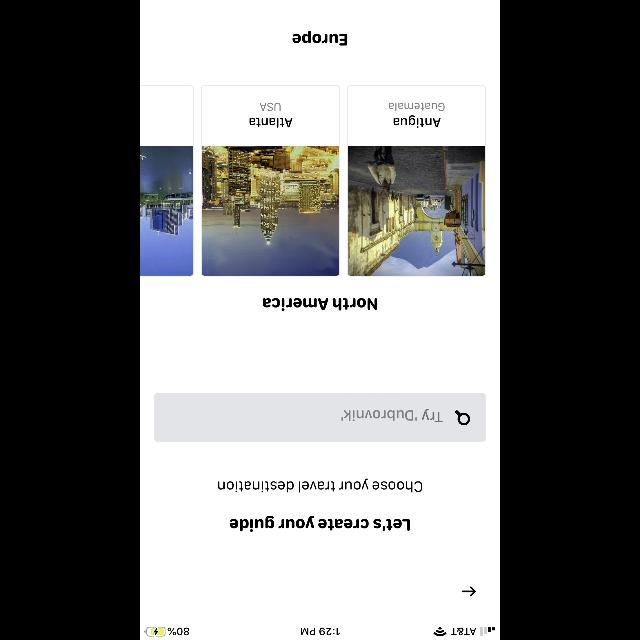icon: (454, 410, 470, 426), (462, 586, 476, 596)
image: (202, 147, 338, 276), (348, 147, 484, 276), (140, 147, 193, 276)
input: (154, 393, 486, 441)
text: (230, 516, 410, 532), (218, 478, 422, 492), (263, 298, 377, 310), (342, 410, 442, 422), (292, 31, 348, 45), (394, 115, 441, 128), (390, 103, 444, 111), (250, 118, 292, 128), (260, 103, 280, 111)
uppertaskbar: (140, 626, 500, 640)
